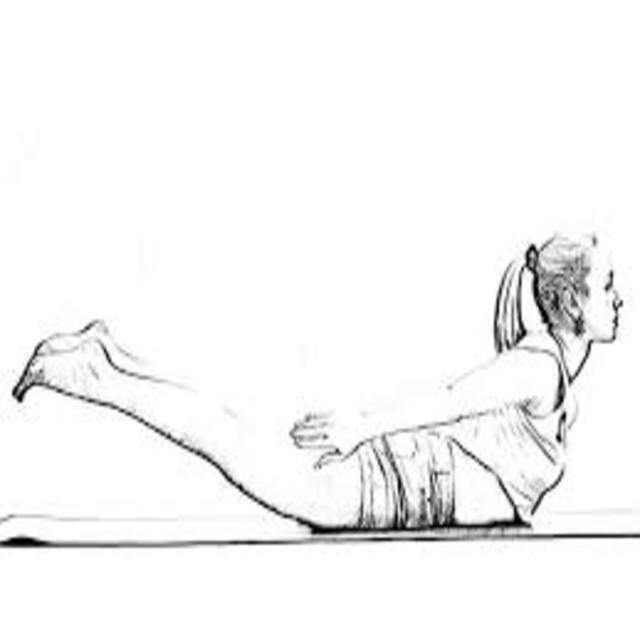Locust_Pose: (12, 236, 621, 532)
